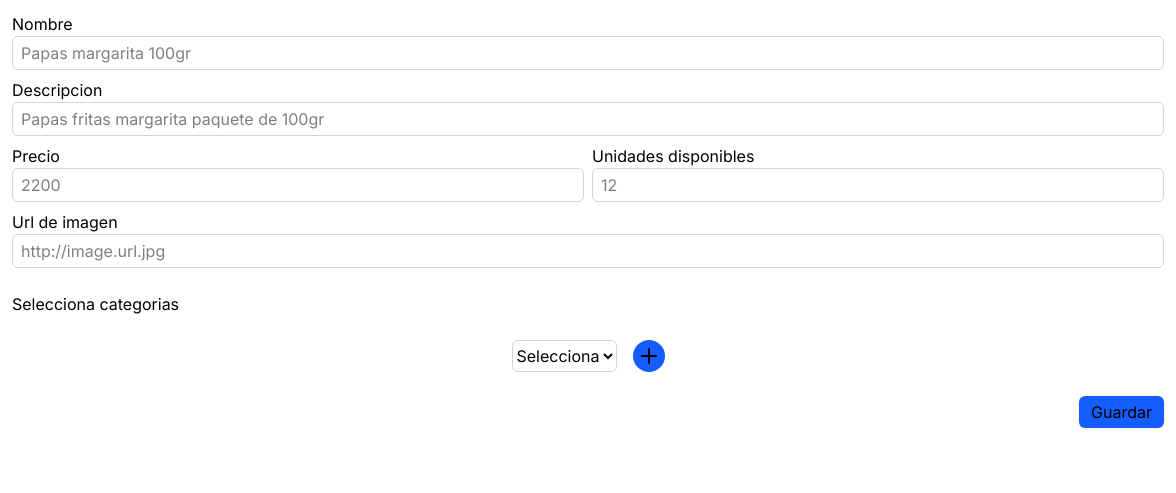
Create new product component › should advice user that product name should has 3 or more characters
Type "so" into the field with test id "input-name" at (588, 53), box [12,36,1164,70]
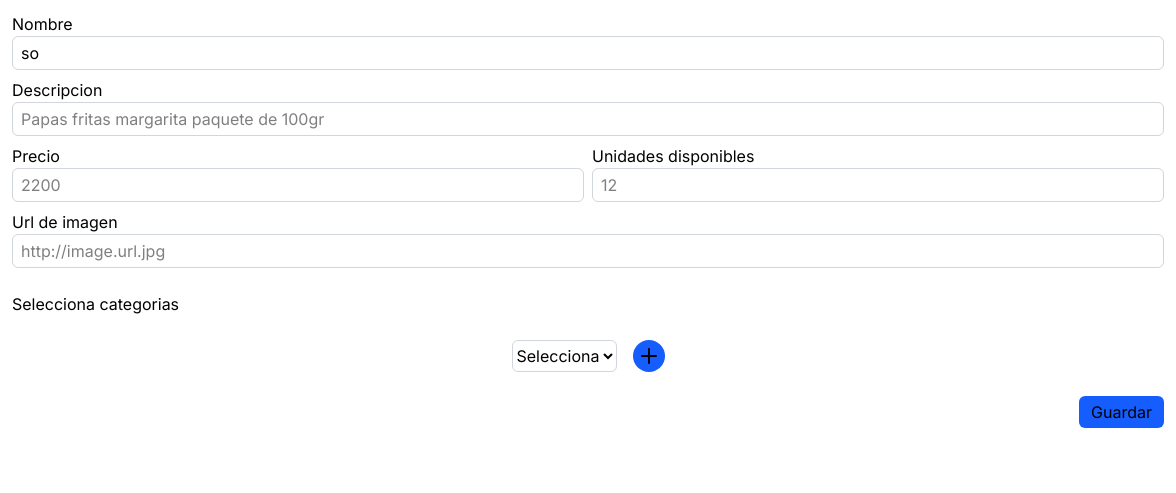
Submit the form with test id "form"
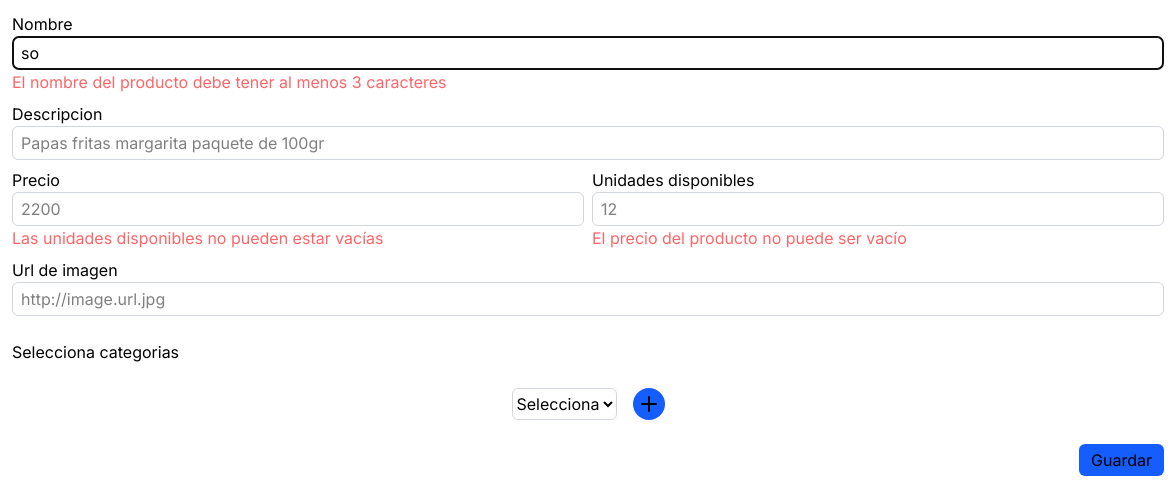
Expected: the text "El nombre del producto debe tener al menos 3 caracteres" is shown, [12,72,447,92]
